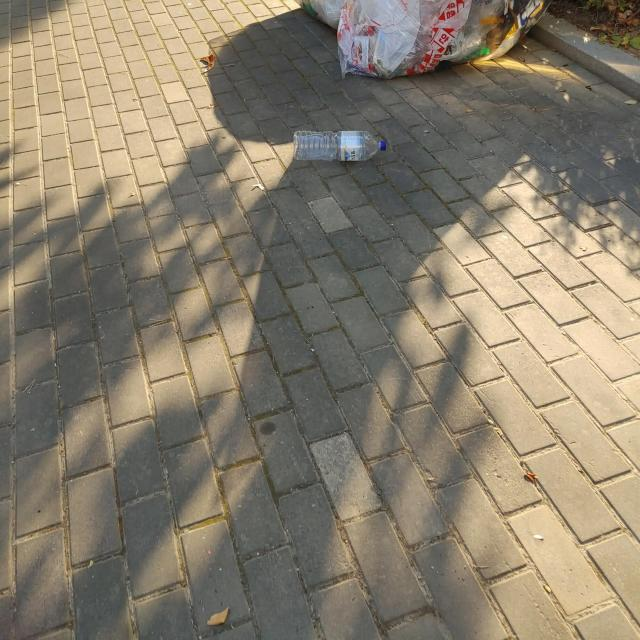plastic: (294, 130, 387, 161)
